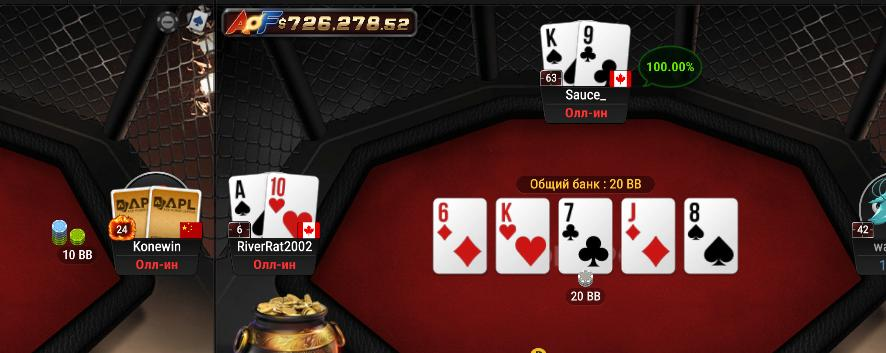10h: (265, 173, 318, 239)
6d: (434, 198, 486, 274)
7c: (560, 199, 612, 274)
8s: (684, 199, 738, 275)
9c: (578, 19, 630, 86)
As: (227, 173, 264, 239)
Jd: (623, 197, 674, 274)
Kh: (497, 199, 551, 274)
Ks: (541, 20, 577, 84)
